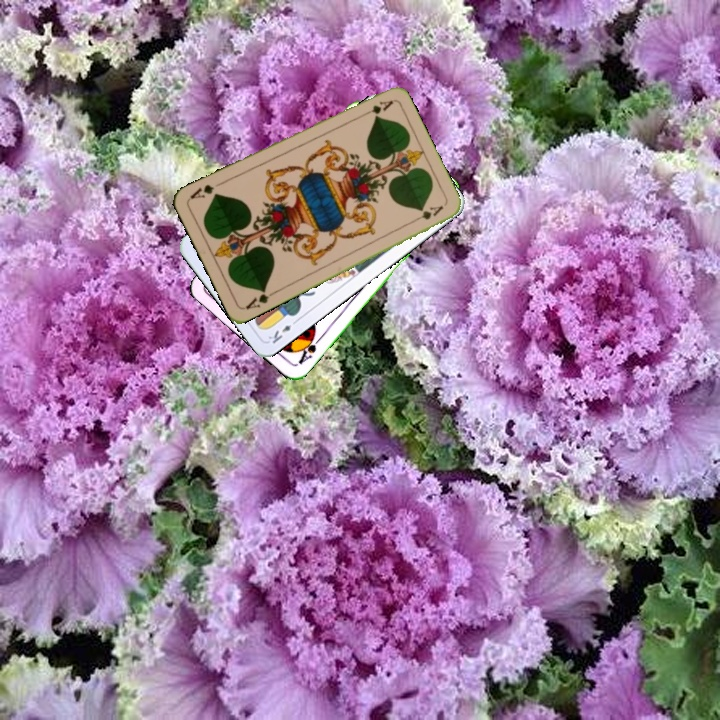EK: (264, 315, 301, 346)
GA: (241, 285, 279, 312), (356, 96, 395, 120)
SA: (294, 329, 324, 367)
